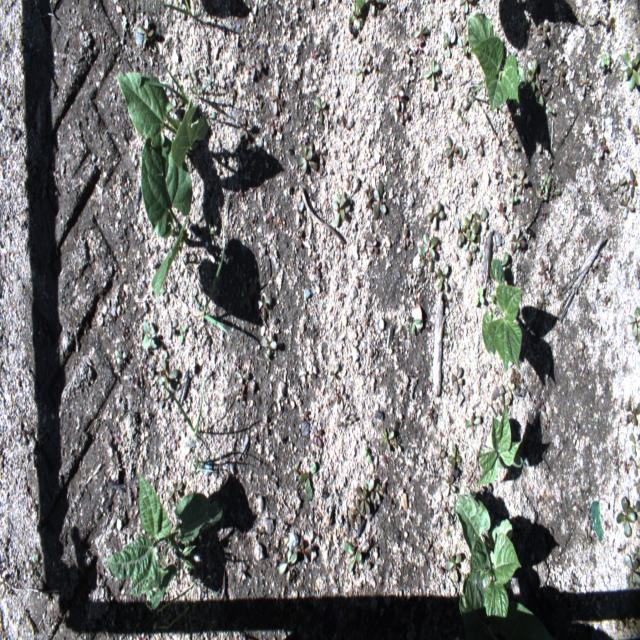crop: (116, 69, 210, 241), (104, 472, 181, 616), (453, 486, 533, 620), (464, 15, 544, 114), (481, 250, 523, 374), (174, 492, 224, 576), (477, 407, 524, 488)
weed: (150, 187, 199, 299), (190, 292, 225, 331), (613, 494, 639, 540), (462, 208, 489, 246), (368, 178, 391, 220), (297, 461, 319, 504), (620, 44, 638, 92), (443, 136, 466, 171), (588, 500, 606, 544), (425, 196, 446, 233), (159, 358, 181, 393), (446, 442, 464, 478), (275, 551, 297, 580), (345, 539, 362, 576), (504, 225, 526, 252), (412, 17, 431, 48), (298, 138, 315, 172), (624, 555, 640, 591), (619, 188, 637, 220), (613, 615, 637, 638), (332, 190, 346, 228), (445, 548, 461, 581), (349, 0, 366, 30), (391, 79, 406, 112), (579, 59, 592, 97), (142, 321, 159, 350), (424, 59, 439, 90), (420, 231, 436, 260), (356, 485, 372, 513), (450, 364, 465, 393), (552, 64, 566, 95), (468, 235, 482, 266), (432, 442, 448, 469), (535, 18, 552, 41), (625, 398, 638, 428), (610, 175, 628, 196), (489, 386, 507, 405), (444, 30, 454, 64), (598, 134, 610, 162), (629, 162, 638, 198), (630, 306, 640, 338), (463, 413, 484, 428), (456, 216, 466, 247), (138, 24, 156, 41), (543, 170, 552, 203), (354, 61, 366, 85), (510, 368, 522, 392), (443, 470, 454, 496), (408, 316, 422, 336), (438, 264, 448, 292), (316, 98, 325, 128), (538, 258, 548, 284), (473, 135, 484, 158), (382, 430, 393, 452), (168, 317, 180, 337), (459, 0, 472, 15), (474, 285, 483, 306), (600, 51, 610, 69), (510, 138, 520, 156), (363, 447, 372, 464), (509, 193, 519, 205)
